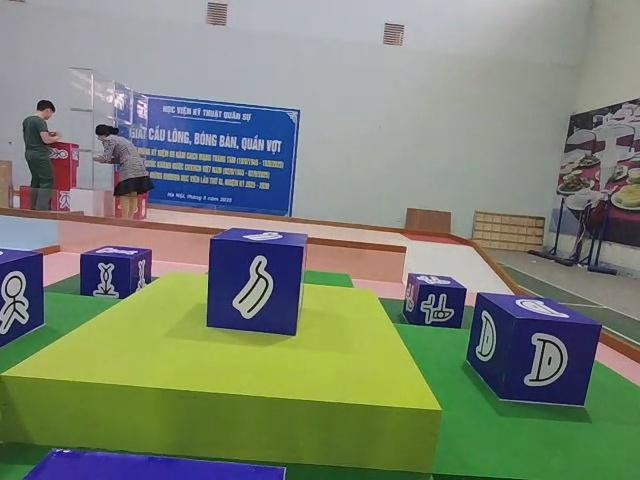R2 Real Blue: (468, 293, 601, 408), (209, 228, 307, 337), (0, 246, 44, 361), (81, 245, 155, 300), (402, 272, 466, 328)
